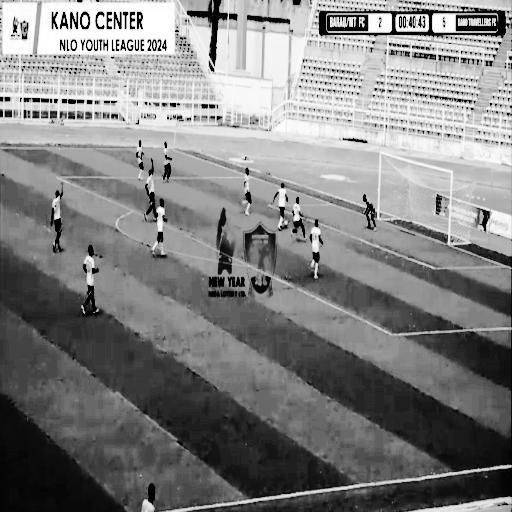ball: (284, 218, 289, 228)
keeper2: (359, 189, 383, 240)
team1: (271, 175, 290, 237), (309, 214, 324, 292), (151, 198, 169, 262), (241, 162, 257, 228), (132, 139, 146, 180)
team2: (79, 242, 102, 324), (48, 176, 68, 258), (290, 190, 310, 248), (143, 149, 156, 218), (159, 135, 175, 186)
